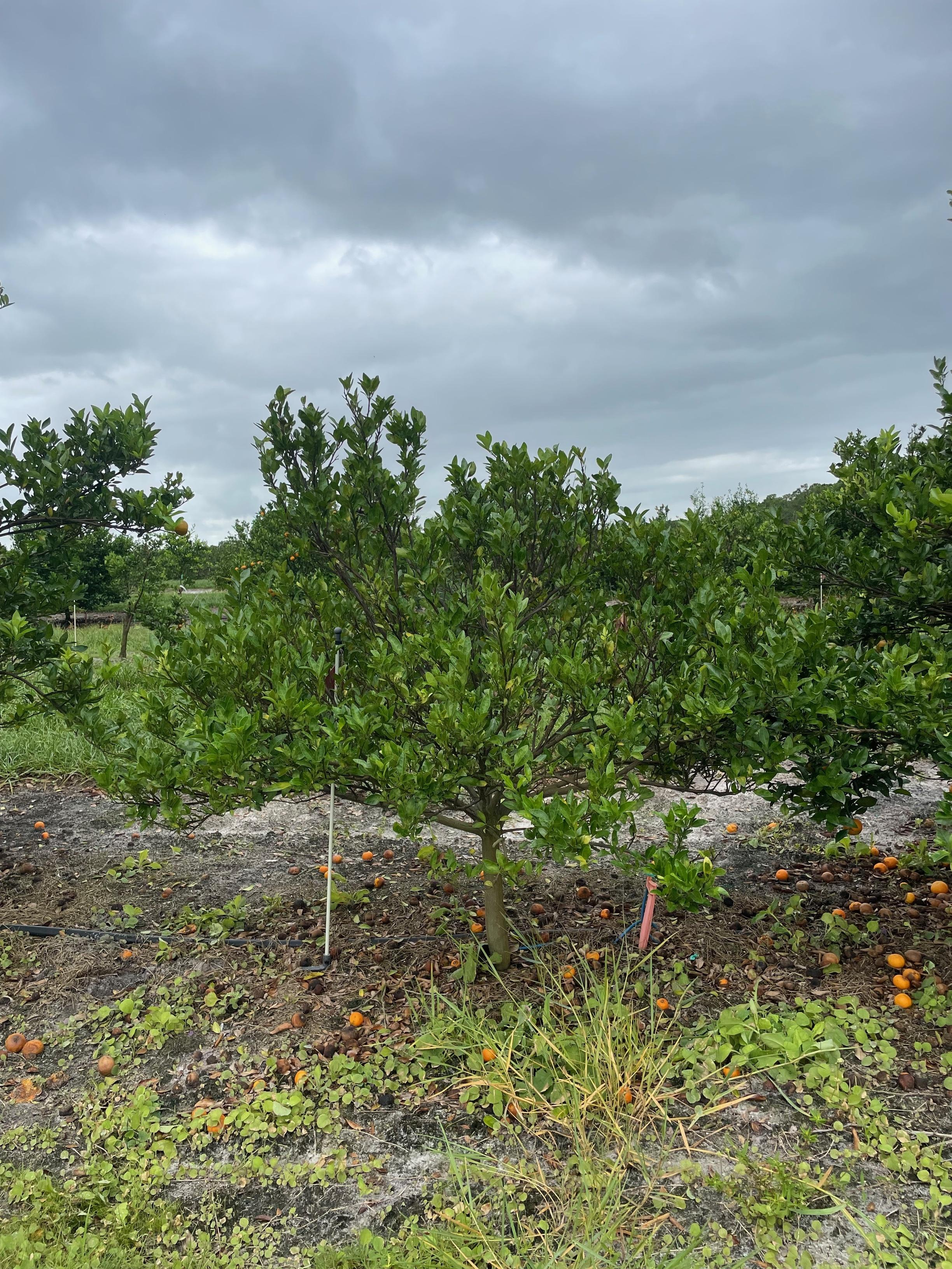fruit_on_ground: (843, 815, 863, 836), (172, 517, 191, 537), (289, 555, 296, 562), (260, 511, 266, 517), (249, 561, 255, 567), (241, 565, 246, 570)
fruit_on_tree: (3, 1030, 28, 1054), (896, 1069, 918, 1092), (94, 1054, 117, 1076), (614, 1083, 635, 1106), (23, 1037, 46, 1057), (892, 992, 915, 1011), (901, 966, 922, 985), (928, 877, 950, 895), (819, 949, 841, 967), (292, 1067, 311, 1087), (903, 948, 924, 966), (885, 950, 906, 967), (274, 1055, 292, 1074), (890, 972, 910, 989), (653, 994, 671, 1012), (348, 1009, 366, 1027), (249, 1075, 268, 1092), (721, 1062, 741, 1078), (289, 1010, 306, 1028), (480, 1045, 497, 1062), (575, 883, 593, 899), (896, 865, 915, 880), (560, 962, 576, 979), (584, 948, 602, 963), (17, 860, 36, 874), (858, 900, 875, 915), (529, 900, 546, 915), (469, 919, 485, 934), (794, 878, 810, 893), (883, 853, 899, 868), (831, 906, 847, 920), (774, 867, 790, 881), (868, 844, 883, 858), (903, 890, 918, 904), (726, 820, 740, 834), (322, 868, 337, 881), (716, 975, 731, 988), (821, 870, 836, 883), (872, 861, 887, 874), (877, 904, 891, 917), (474, 905, 487, 919), (160, 886, 174, 899), (32, 818, 46, 831), (599, 906, 613, 919), (373, 875, 387, 888), (443, 880, 456, 893), (317, 863, 330, 876), (287, 863, 301, 875), (381, 848, 395, 860), (847, 900, 862, 911), (120, 947, 133, 959), (362, 849, 374, 862), (41, 829, 53, 840), (331, 852, 343, 863), (130, 830, 141, 839)
